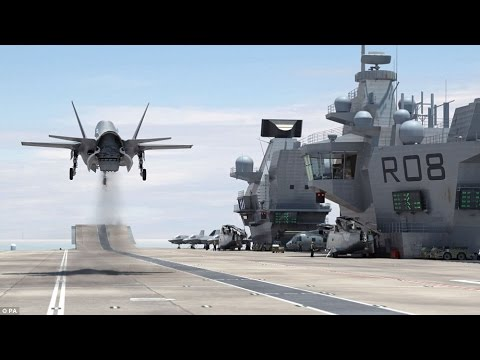F35: (18, 96, 194, 183)
